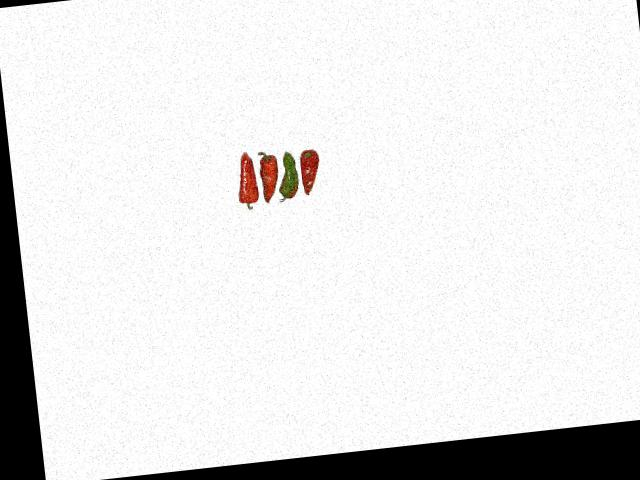bell_pepper: (297, 146, 328, 200)
